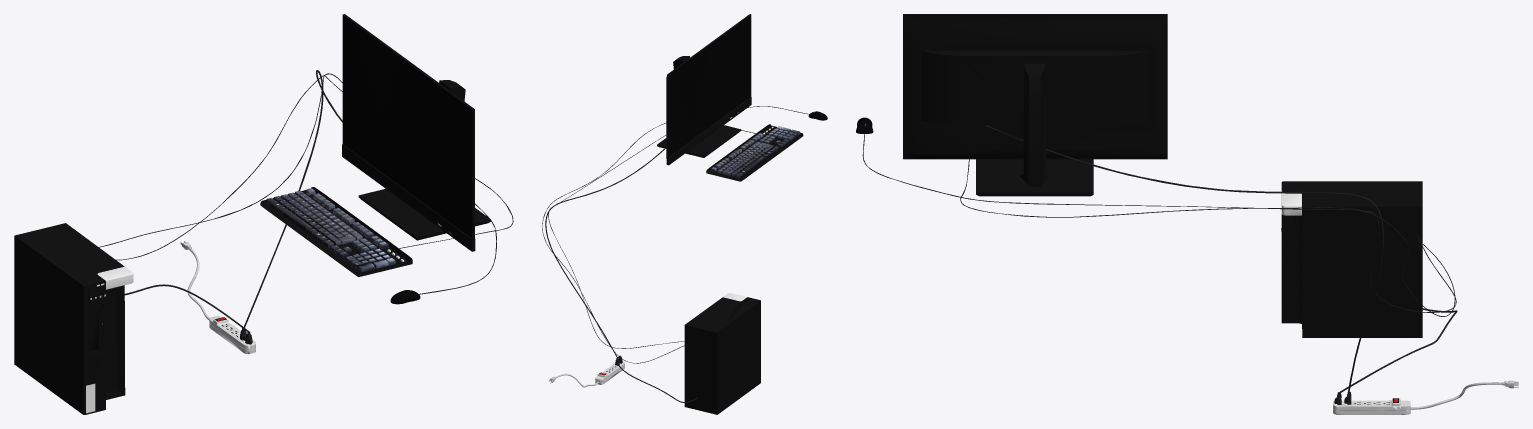
Rendered from desktop.glb.
3 renders of one model, left to right at view 1: azimuth 30°, elevation 25°; view 2: azimuth 150°, elevation 25°; view 3: azimuth 270°, elevation 25°, orthographic. The views are drawn at different scales.
Visible parts, largest first — view 1: Monitor, Cube.002, Cube.041, Cube.017, Cube.010, NurbsPath.004, Monitor Power Cord, NurbsPath.003, Cube; view 2: Monitor, Cube.002, Cube.041, Cube.017, Monitor Power Cord, NurbsPath.004, NurbsPath.003, Cube.010; view 3: Monitor, Cube.002, Monitor Power Cord, Cube.010, NurbsPath.004, NurbsPath.003.
Boxes of the visible parts, left/top/right/bottom form: Monitor: left=342, top=14, right=491, bottom=251; Cube.002: left=14, top=223, right=125, bottom=414; Cube.041: left=265, top=188, right=395, bottom=272; Cube.017: left=260, top=187, right=412, bottom=276; Cube.010: left=209, top=316, right=255, bottom=354; NurbsPath.004: left=99, top=75, right=496, bottom=294; Monitor Power Cord: left=244, top=70, right=342, bottom=327; NurbsPath.003: left=116, top=73, right=513, bottom=260; Cube: left=97, top=266, right=133, bottom=289; Monitor: left=657, top=14, right=751, bottom=165; Cube.002: left=684, top=297, right=760, bottom=414; Cube.041: left=710, top=126, right=800, bottom=177; Cube.017: left=706, top=124, right=803, bottom=181; Monitor Power Cord: left=545, top=147, right=666, bottom=357; NurbsPath.004: left=548, top=106, right=809, bottom=348; NurbsPath.003: left=542, top=123, right=755, bottom=363; Cube.010: left=595, top=361, right=624, bottom=384; Monitor: left=903, top=14, right=1167, bottom=196; Cube.002: left=1281, top=181, right=1422, bottom=337; Monitor Power Cord: left=984, top=125, right=1383, bottom=392; Cube.010: left=1333, top=398, right=1410, bottom=414; NurbsPath.004: left=862, top=133, right=1456, bottom=312; NurbsPath.003: left=960, top=159, right=1455, bottom=316.
Size of the model in its own units: 1.05 by 1.35 by 2.02.
13 materials, 13 textured.
